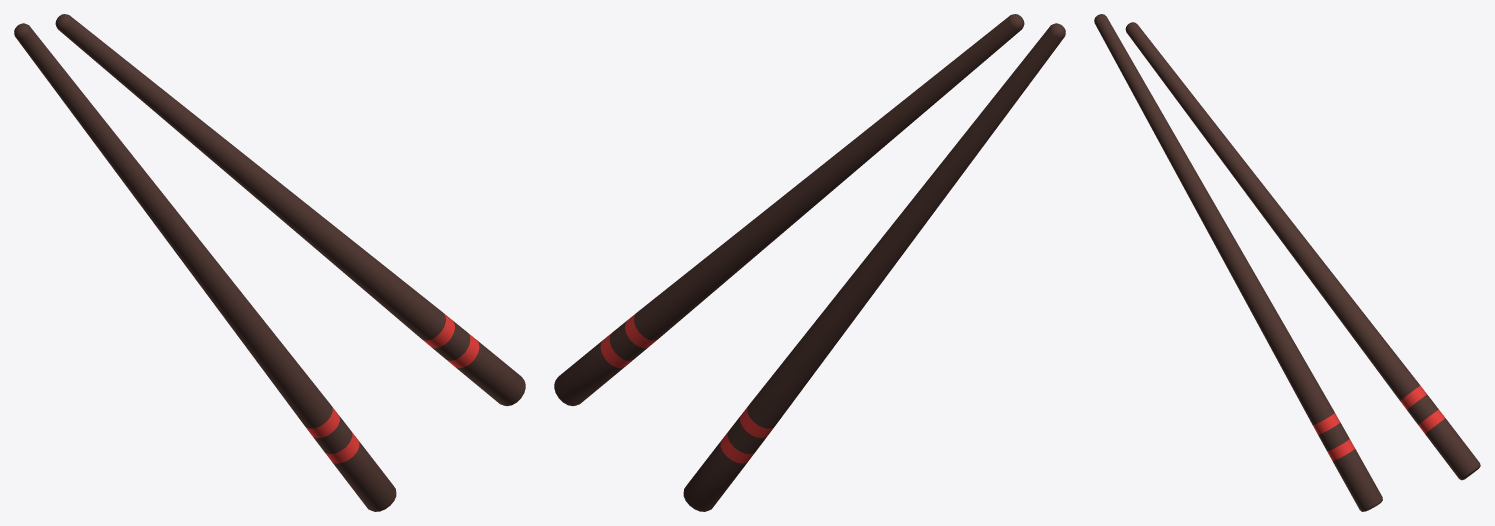
The model's file is chopsticks.glb.
3 views of the same model, side by side, from view 1: azimuth 30°, elevation 25°; view 2: azimuth 150°, elevation 25°; view 3: azimuth 330°, elevation 25° (orthographic). The views are drawn at different scales.
Parts seen in each view (by area): view 1: Circle.2317; view 2: Circle.2317; view 3: Circle.2317.
Boxes of the visible parts, left/top/right/bottom form: Circle.2317: left=14, top=14, right=525, bottom=511; Circle.2317: left=554, top=14, right=1065, bottom=511; Circle.2317: left=1094, top=14, right=1480, bottom=511.
Size of the model in its own units: 2.1 by 2.26 by 0.1255.
Materials: 1 (1 with a texture image).
